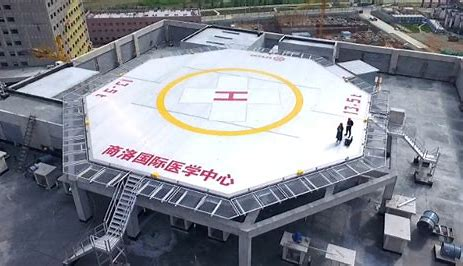H: (213, 91, 247, 102)
